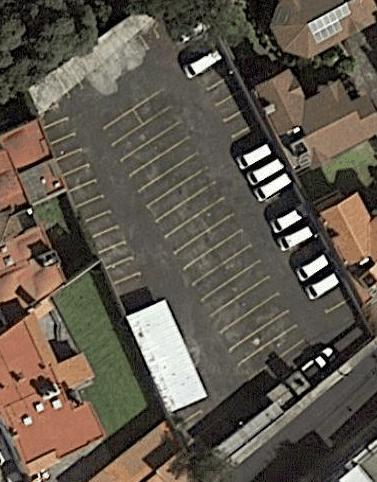parkingspot: (97, 87, 310, 385), (164, 14, 352, 319), (40, 115, 144, 286), (40, 16, 163, 112), (173, 408, 228, 445)
